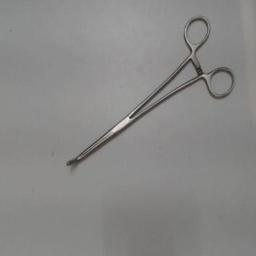Lahey Forceps: (60, 3, 236, 177)
